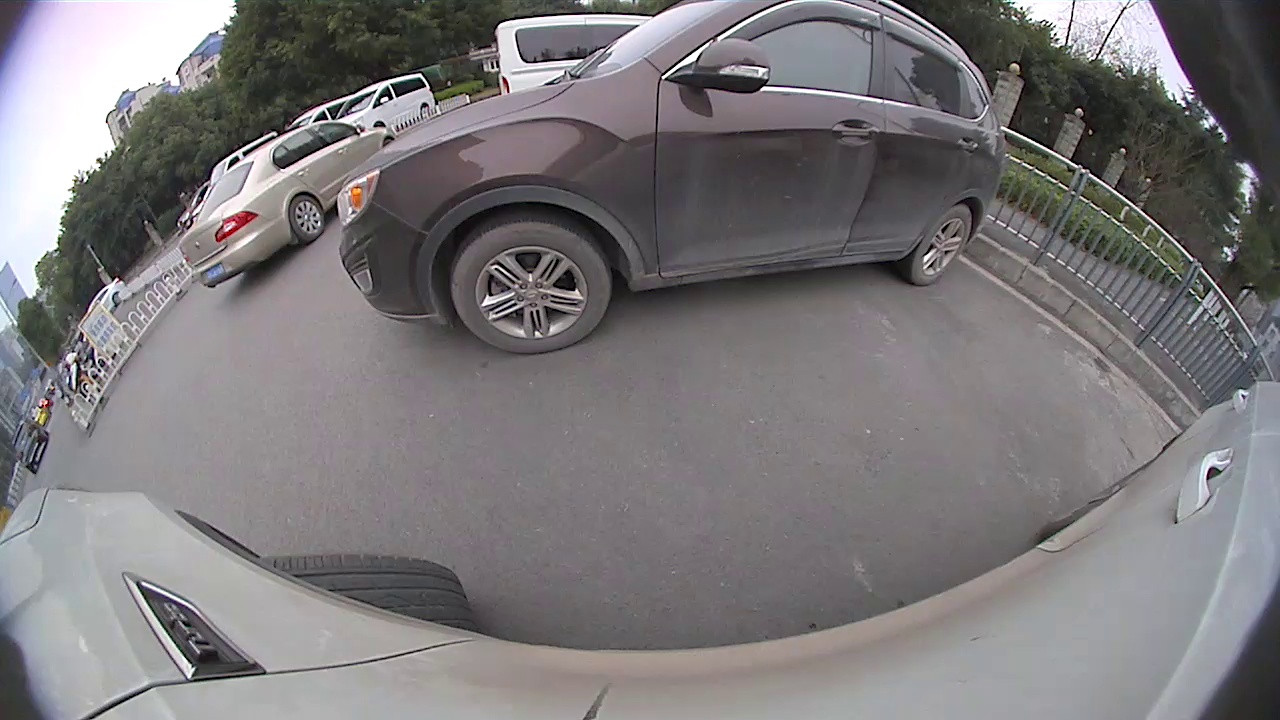car: (332, 0, 1003, 360), (174, 117, 402, 291), (491, 14, 663, 99), (336, 69, 439, 133)
front: (448, 222, 617, 355)
rear: (907, 203, 976, 290), (287, 192, 326, 243)
